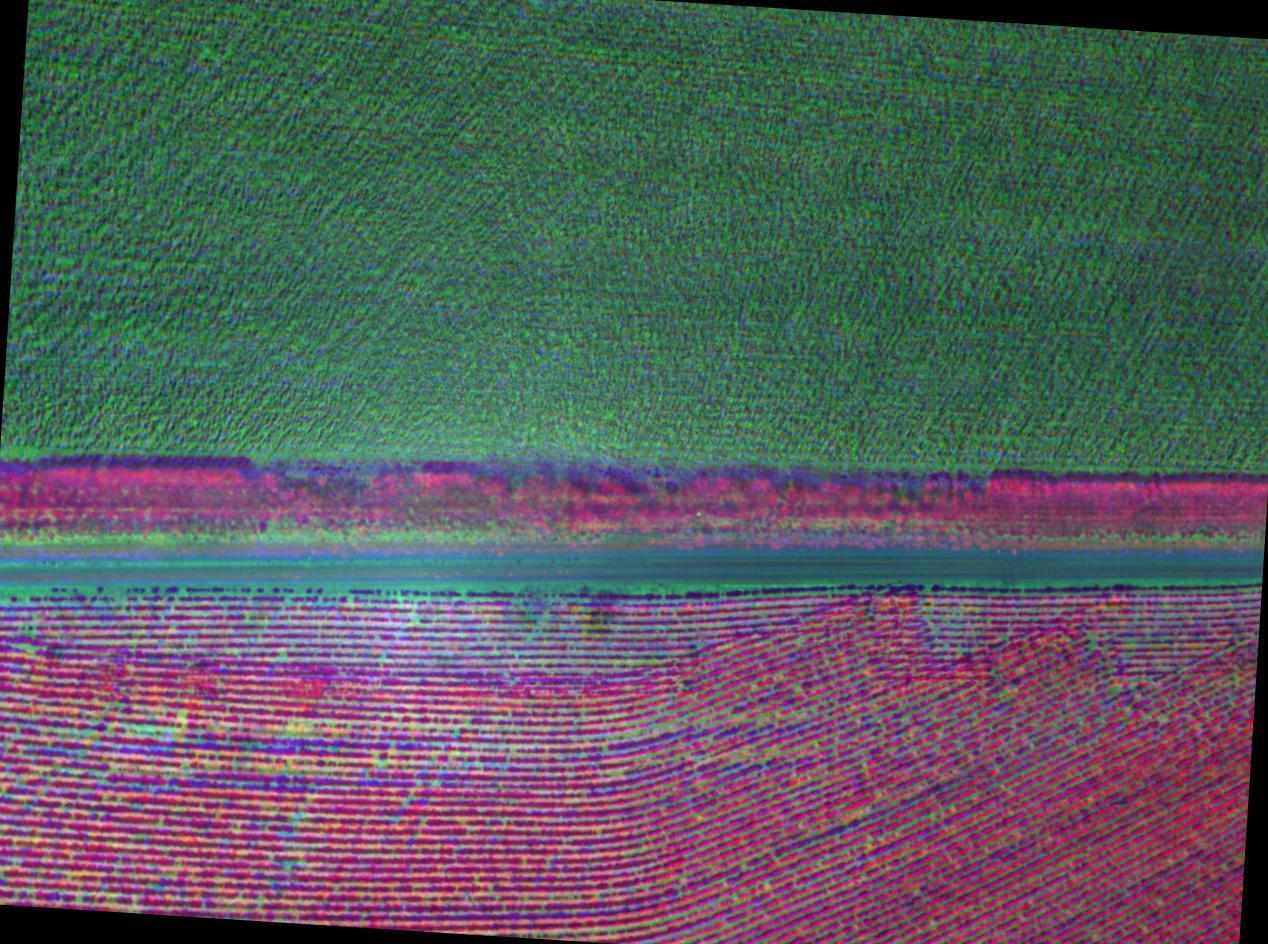dc: (276, 714, 421, 769), (107, 697, 223, 750)
